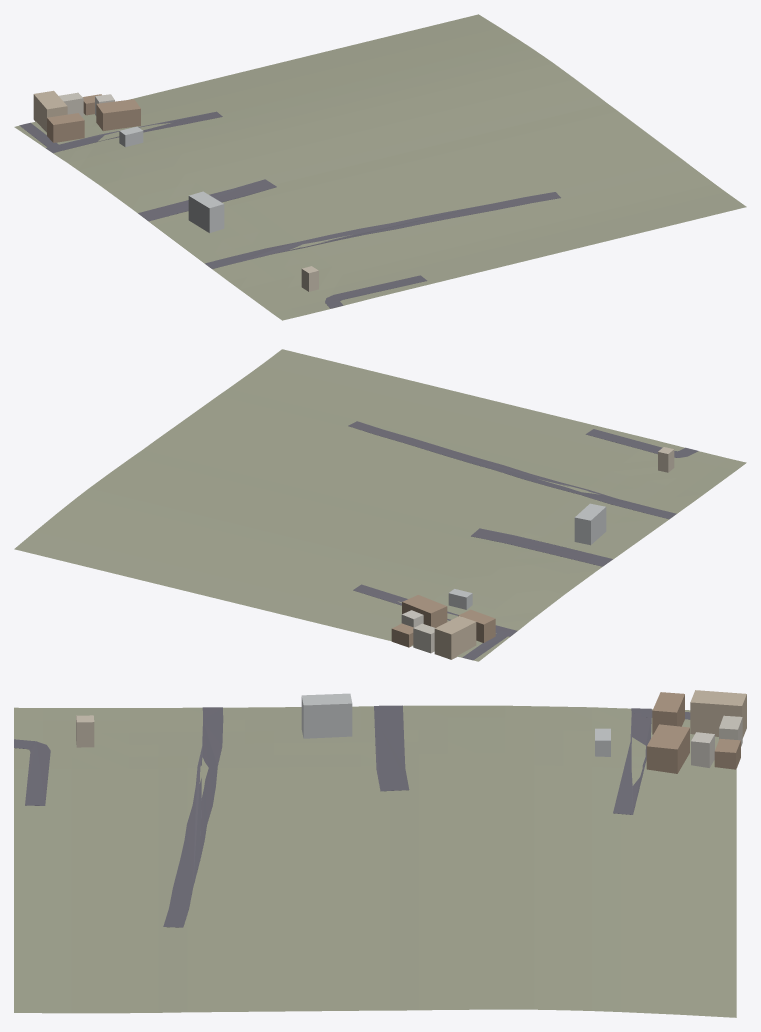
File: chunk_11_5.glb
3 renders of one model, top to bottom at view 1: azimuth 30°, elevation 25°; view 2: azimuth 150°, elevation 25°; view 3: azimuth 270°, elevation 25°, orthographic. The views are drawn at different scales.
Visible parts, largest first — view 1: geometry_9, geometry_10, geometry_5, geometry_0, geometry_11, geometry_2, geometry_6, geometry_13, geometry_14; view 2: geometry_9, geometry_10, geometry_6, geometry_11, geometry_0, geometry_5, geometry_14, geometry_2, geometry_7, geometry_13; view 3: geometry_9, geometry_10, geometry_11, geometry_0, geometry_6, geometry_5, geometry_13, geometry_14, geometry_2, geometry_4, geometry_8, geometry_3 (+1 smaller).
Boxes of the visible parts, left/top/right/bottom form: geometry_9: left=14, top=14, right=746, bottom=320; geometry_10: left=205, top=192, right=560, bottom=268; geometry_5: left=96, top=99, right=140, bottom=131; geometry_0: left=188, top=191, right=224, bottom=232; geometry_11: left=138, top=179, right=276, bottom=221; geometry_2: left=47, top=113, right=84, bottom=142; geometry_6: left=33, top=90, right=67, bottom=132; geometry_13: left=57, top=111, right=222, bottom=150; geometry_14: left=325, top=275, right=427, bottom=308; geometry_9: left=14, top=349, right=746, bottom=661; geometry_10: left=348, top=421, right=676, bottom=519; geometry_6: left=434, top=616, right=476, bottom=659; geometry_11: left=471, top=528, right=612, bottom=566; geometry_0: left=574, top=503, right=606, bottom=545; geometry_5: left=402, top=595, right=447, bottom=627; geometry_14: left=586, top=429, right=698, bottom=457; geometry_2: left=458, top=609, right=495, bottom=642; geometry_7: left=413, top=623, right=435, bottom=653; geometry_13: left=353, top=584, right=509, bottom=634; geometry_9: left=14, top=705, right=736, bottom=1017; geometry_10: left=163, top=707, right=223, bottom=927; geometry_11: left=374, top=705, right=409, bottom=791; geometry_0: left=301, top=693, right=352, bottom=738; geometry_6: left=690, top=690, right=746, bottom=738; geometry_5: left=646, top=724, right=689, bottom=773; geometry_13: left=613, top=713, right=651, bottom=814; geometry_14: left=14, top=739, right=50, bottom=805; geometry_2: left=652, top=692, right=684, bottom=734; geometry_4: left=691, top=732, right=714, bottom=767; geometry_8: left=714, top=738, right=740, bottom=769; geometry_3: left=76, top=715, right=94, bottom=747.
Bounding box in the file's own units: 250 × 15.34 × 254.
